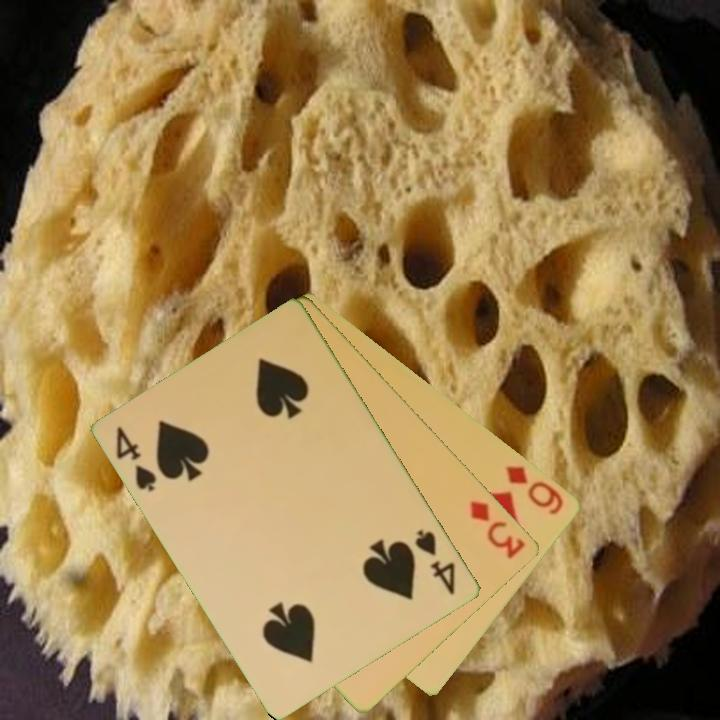3d: (466, 496, 529, 562)
4s: (411, 526, 459, 598), (113, 423, 160, 496)
6d: (502, 461, 567, 518)
